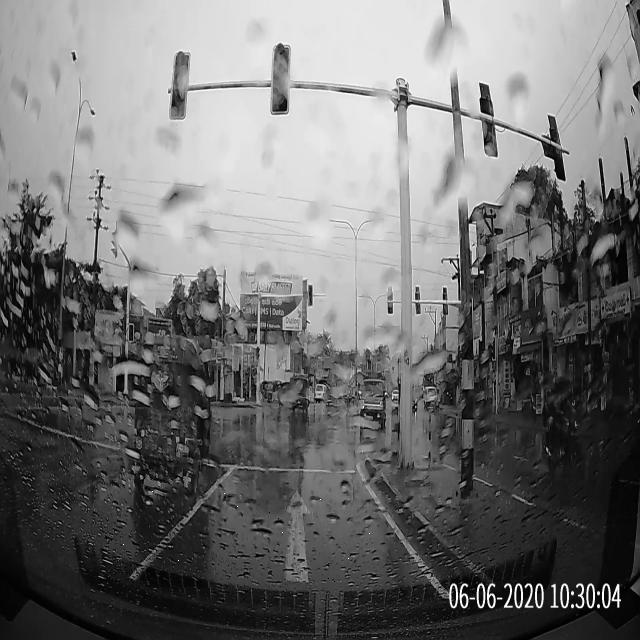diamond: (114, 479, 449, 588)
